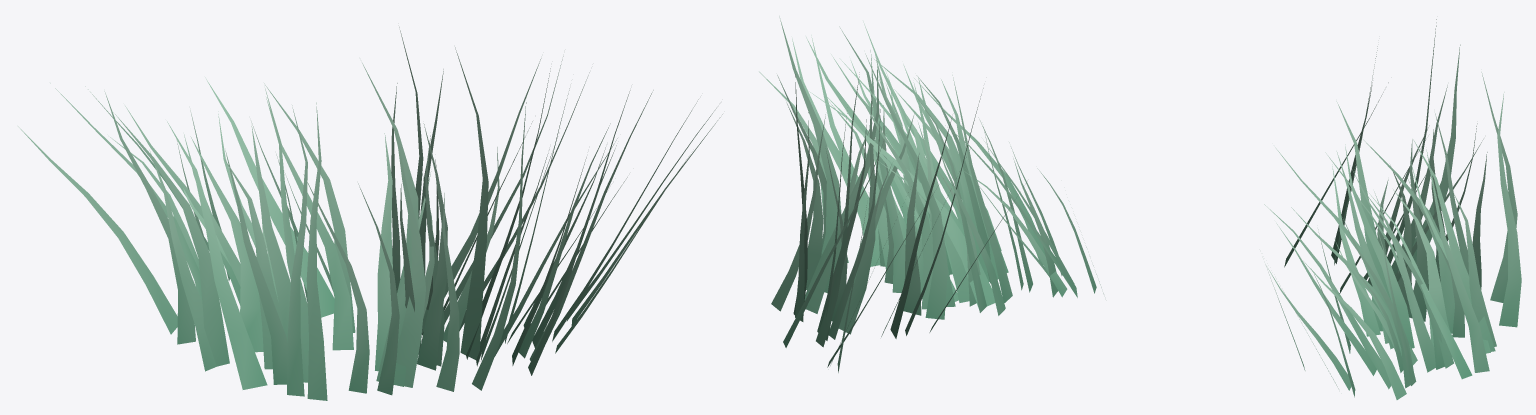
The model's file is mesh-plant-016-amber-tuft_LOD1.glb.
The picture shows the model from 3 angles, left to right: view 1: azimuth 30°, elevation 25°; view 2: azimuth 150°, elevation 25°; view 3: azimuth 270°, elevation 25°; orthographic projection. The views are drawn at different scales.
Parts seen in each view (by area): view 1: geometry_0; view 2: geometry_0; view 3: geometry_0.
Part boxes in pixels (box(x1,y1,x2,y2)): geometry_0: box(18, 27, 722, 400); geometry_0: box(759, 16, 1103, 372); geometry_0: box(1264, 19, 1521, 399).
Size of the model in its own units: 1.72 by 0.7665 by 1.06.
